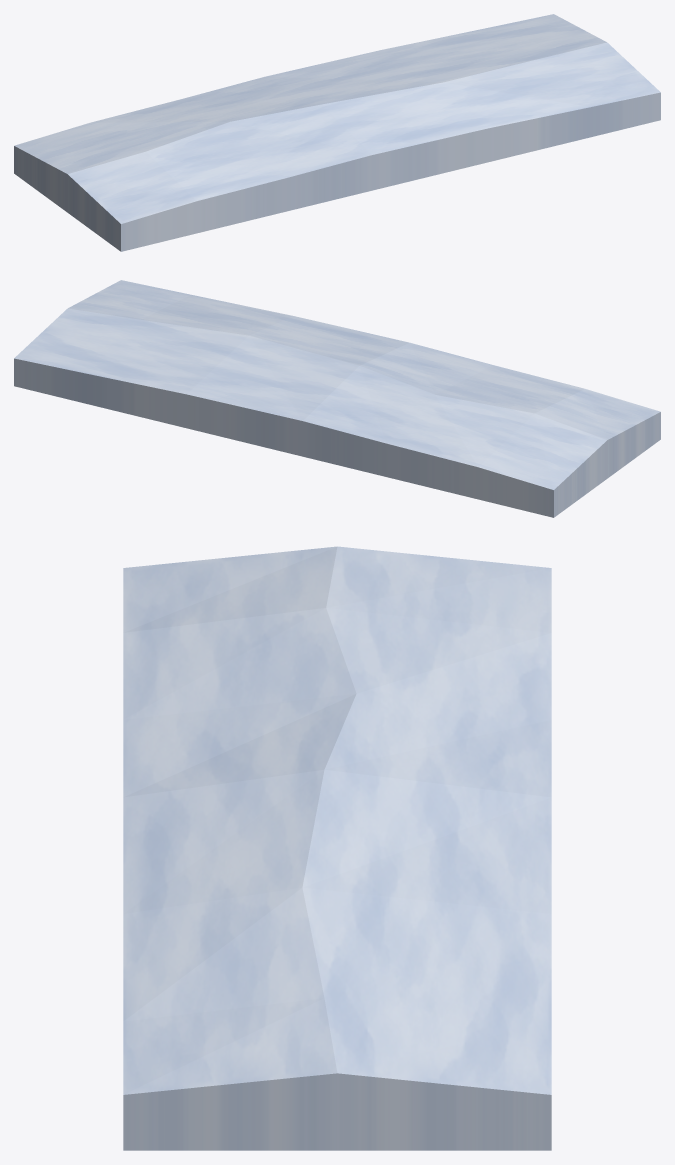
Rendered from snow_door_overhang.glb.
The picture shows the model from 3 angles, top to bottom: view 1: azimuth 30°, elevation 25°; view 2: azimuth 150°, elevation 25°; view 3: azimuth 270°, elevation 25°; orthographic projection. The views are drawn at different scales.
Visible parts, largest first — view 1: winter_snow_door_overhang; view 2: winter_snow_door_overhang; view 3: winter_snow_door_overhang.
Part boxes in pixels (bbox=[...]): winter_snow_door_overhang: bbox=[14, 14, 660, 251]; winter_snow_door_overhang: bbox=[14, 280, 660, 517]; winter_snow_door_overhang: bbox=[123, 546, 551, 1150].
Size of the model in its own units: 1.6 by 0.14 by 0.55.
1 material, 1 textured.
